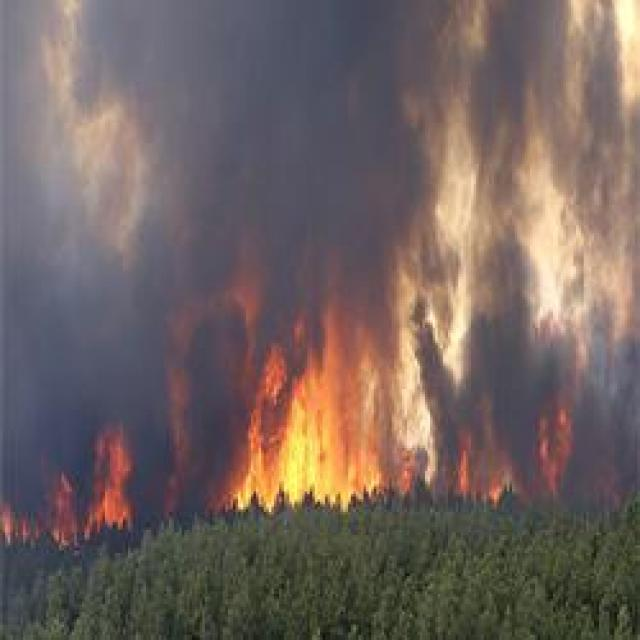fire: (0, 265, 600, 559)
